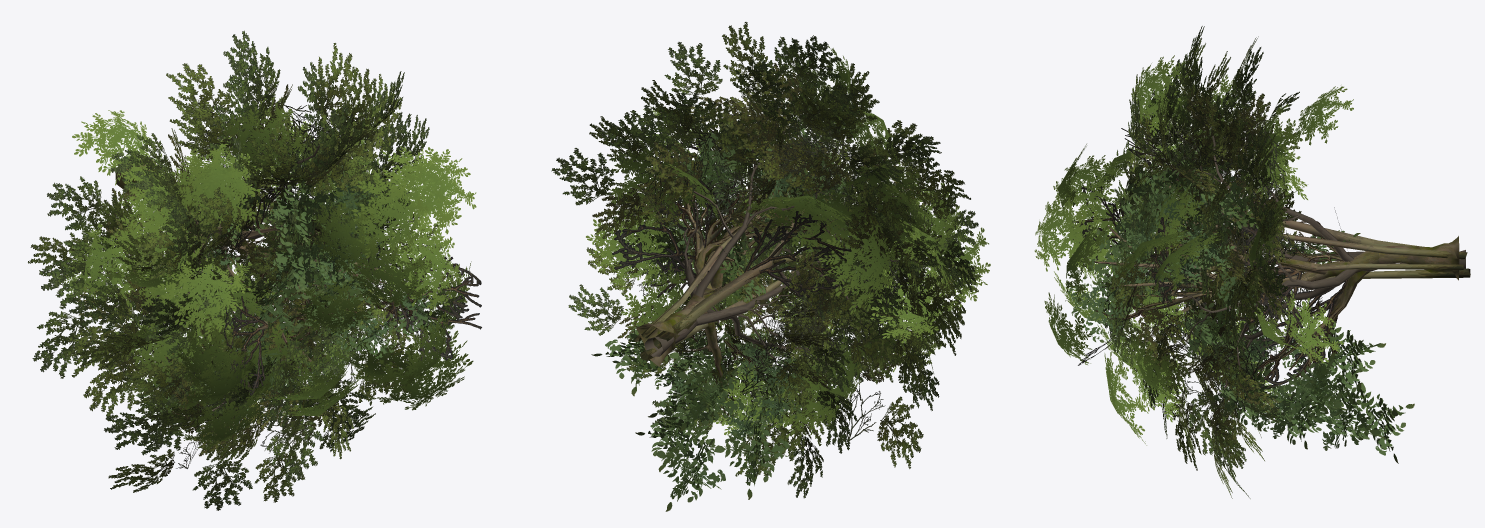
File: battle-trees.glb
3 views of the same model, side by side, from view 1: azimuth 30°, elevation 25°; view 2: azimuth 150°, elevation 25°; view 3: azimuth 270°, elevation 25° (orthographic). The views are drawn at different scales.
Parts seen in each view (by area): view 1: Tree_12_2, Tree_09_2, Tree_MangjaSup_003; view 2: Tree_12_2, Tree_09_2, Tree_MangjaSup_003; view 3: Tree_12_2, Tree_09_2, Tree_MangjaSup_003.
Boxes of the visible parts, left/top/right/bottom form: Tree_12_2: left=28, top=30, right=469, bottom=510; Tree_09_2: left=59, top=105, right=481, bottom=449; Tree_MangjaSup_003: left=115, top=119, right=441, bottom=427; Tree_12_2: left=551, top=22, right=980, bottom=498; Tree_09_2: left=586, top=45, right=990, bottom=440; Tree_MangjaSup_003: left=591, top=119, right=873, bottom=511; Tree_12_2: left=1101, top=26, right=1465, bottom=498; Tree_09_2: left=1034, top=55, right=1470, bottom=445; Tree_MangjaSup_003: left=1068, top=145, right=1459, bottom=463.
Size of the model in its own units: 11.58 by 12.54 by 10.78.
7 materials, 7 textured.
